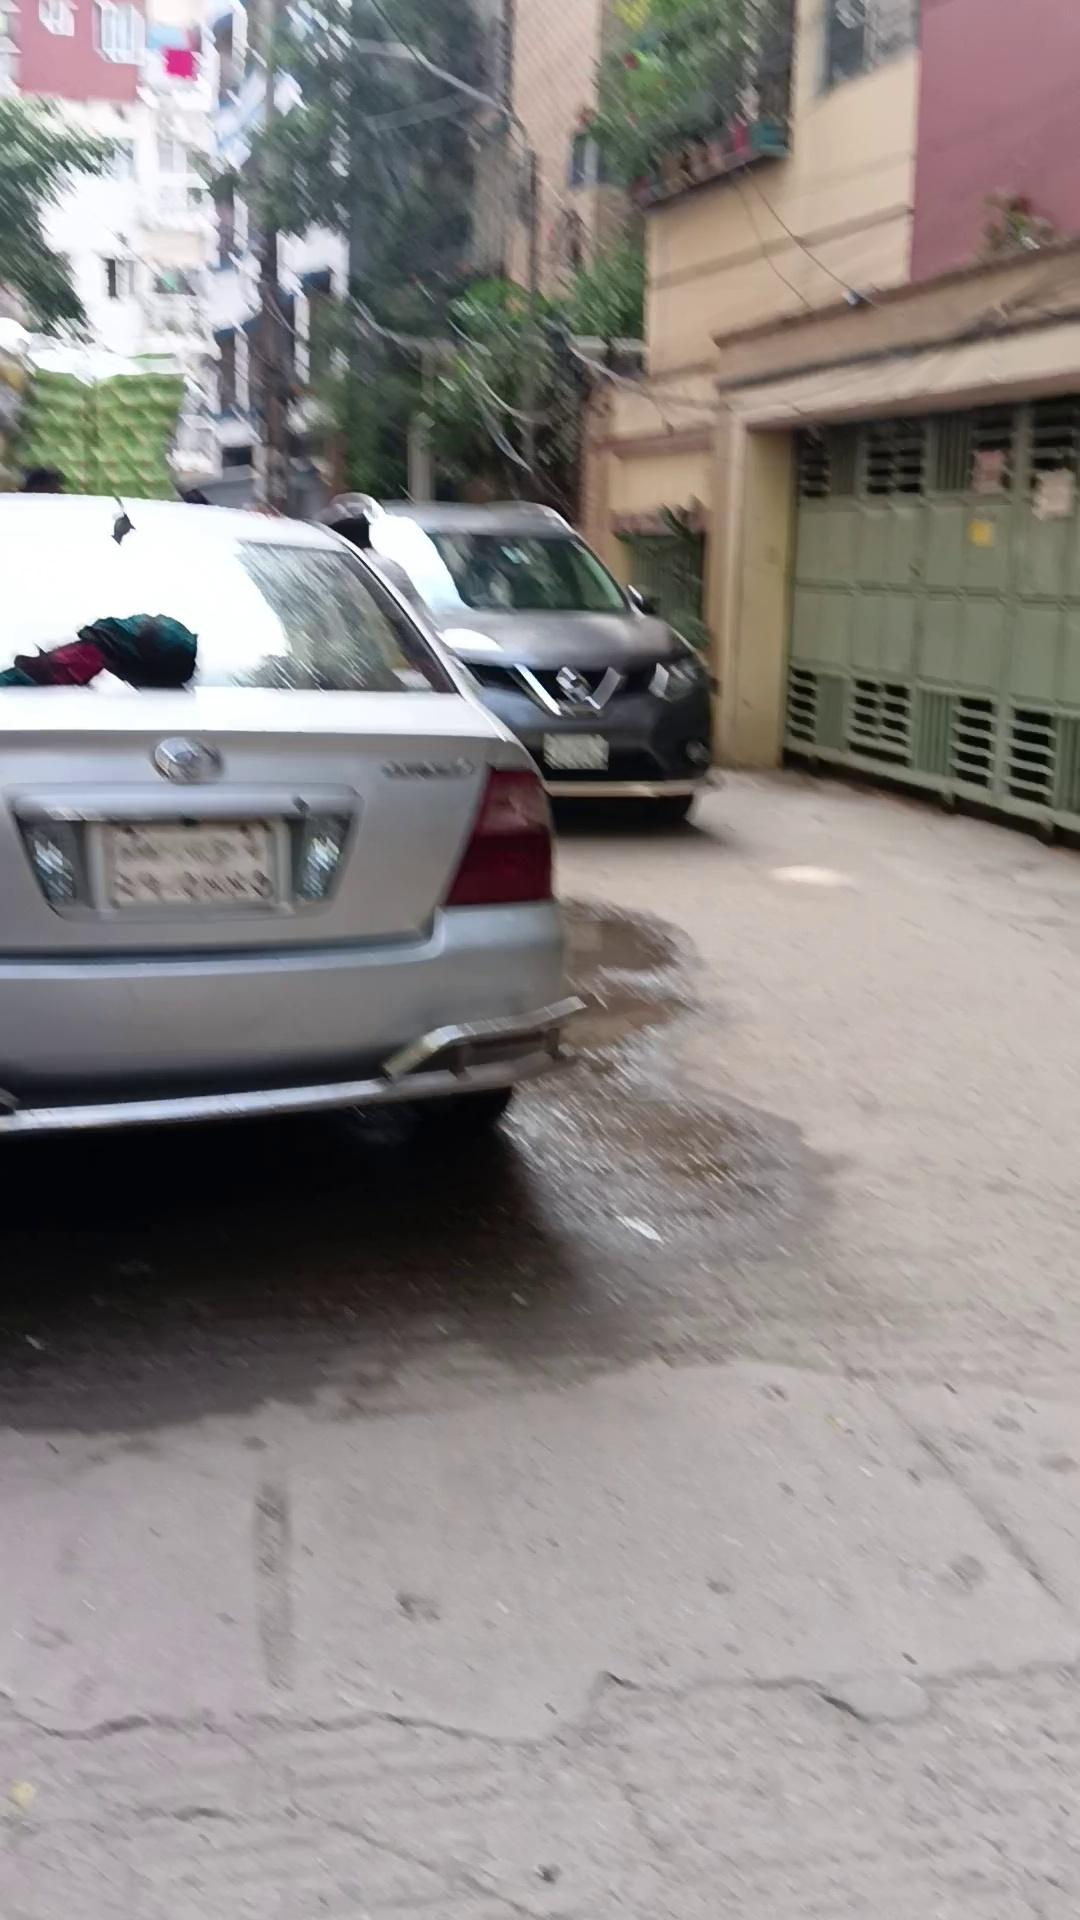Broken-road: (3, 1344, 1076, 1913)
Car: (0, 489, 585, 1149), (313, 492, 716, 824)
Railroad-crossing: (545, 868, 704, 1092)
